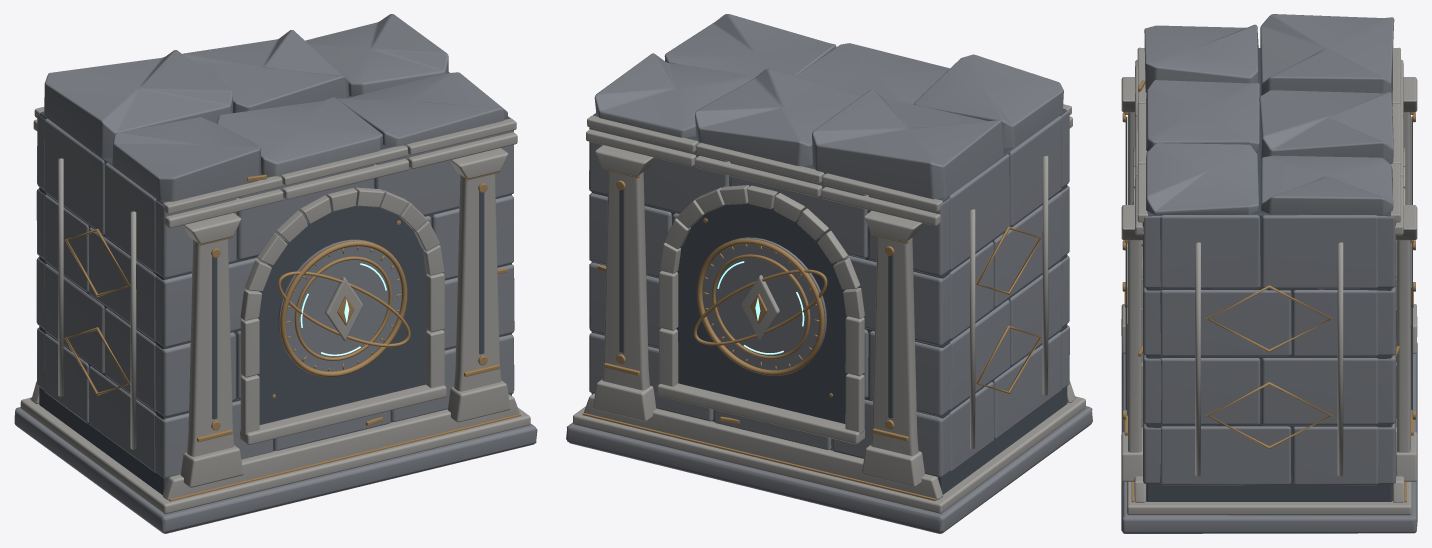
Rendered from sanctum_cover.glb.
The picture shows the model from 3 angles, left to right: view 1: azimuth 30°, elevation 25°; view 2: azimuth 150°, elevation 25°; view 3: azimuth 270°, elevation 25°; orthographic projection. The views are drawn at different scales.
Parts seen in each view (by area): view 1: Basalt_geometry, EdgeStone_geometry, Recess_geometry, Bronze_geometry; view 2: Basalt_geometry, EdgeStone_geometry, Recess_geometry, Bronze_geometry; view 3: Basalt_geometry, EdgeStone_geometry, Recess_geometry, Bronze_geometry.
Boxes of the visible parts, x1,y1,x2,y2 form: Basalt_geometry: (14, 14, 537, 533); EdgeStone_geometry: (20, 107, 530, 514); Recess_geometry: (39, 95, 511, 494); Bronze_geometry: (30, 171, 520, 501); Basalt_geometry: (566, 14, 1092, 533); EdgeStone_geometry: (573, 104, 1085, 513); Recess_geometry: (591, 108, 1067, 494); Bronze_geometry: (582, 169, 1076, 500); Basalt_geometry: (1121, 14, 1417, 533); EdgeStone_geometry: (1121, 47, 1417, 515); Recess_geometry: (1125, 48, 1412, 501); Bronze_geometry: (1122, 80, 1415, 502).
Bounding box in the file's own units: 4.67 × 4.23 × 3.25.
